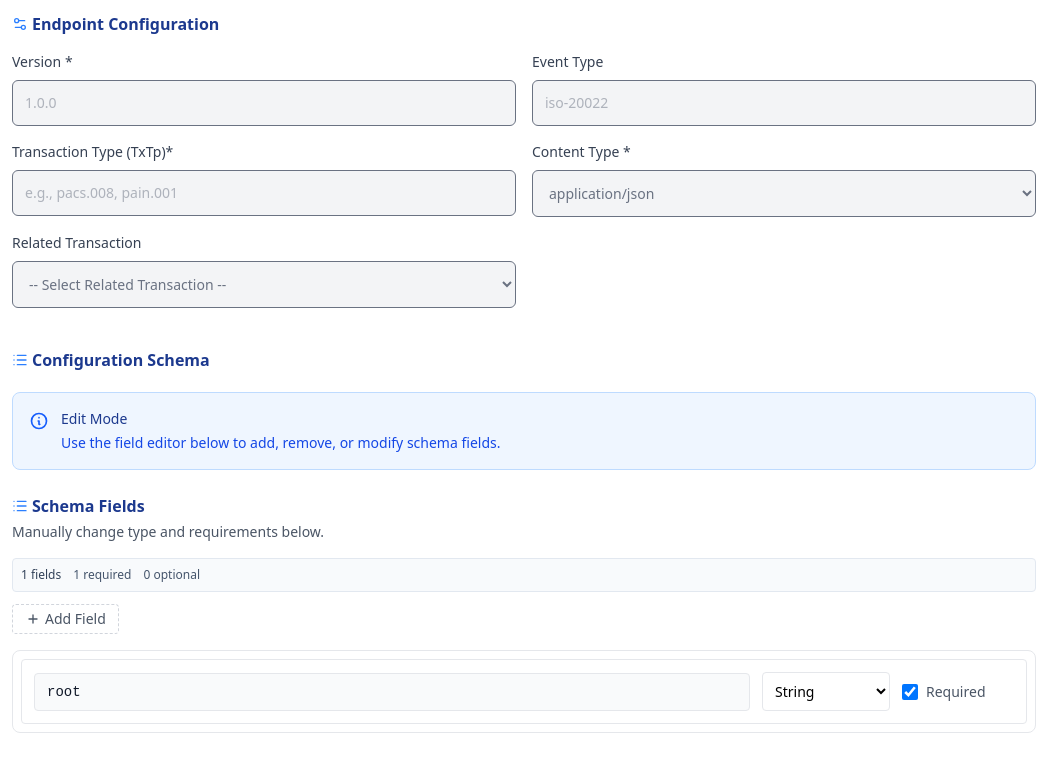
Test: shared/components/PayloadEditor.tsx › supports non-empty add form controls and cancel reset
This screenshot has width=1048, height=780.
Expected: the field showing "root" is shown, [34,672,750,710]
Click the button "Add Field".
click(65, 619)  # box [12,604,119,634]
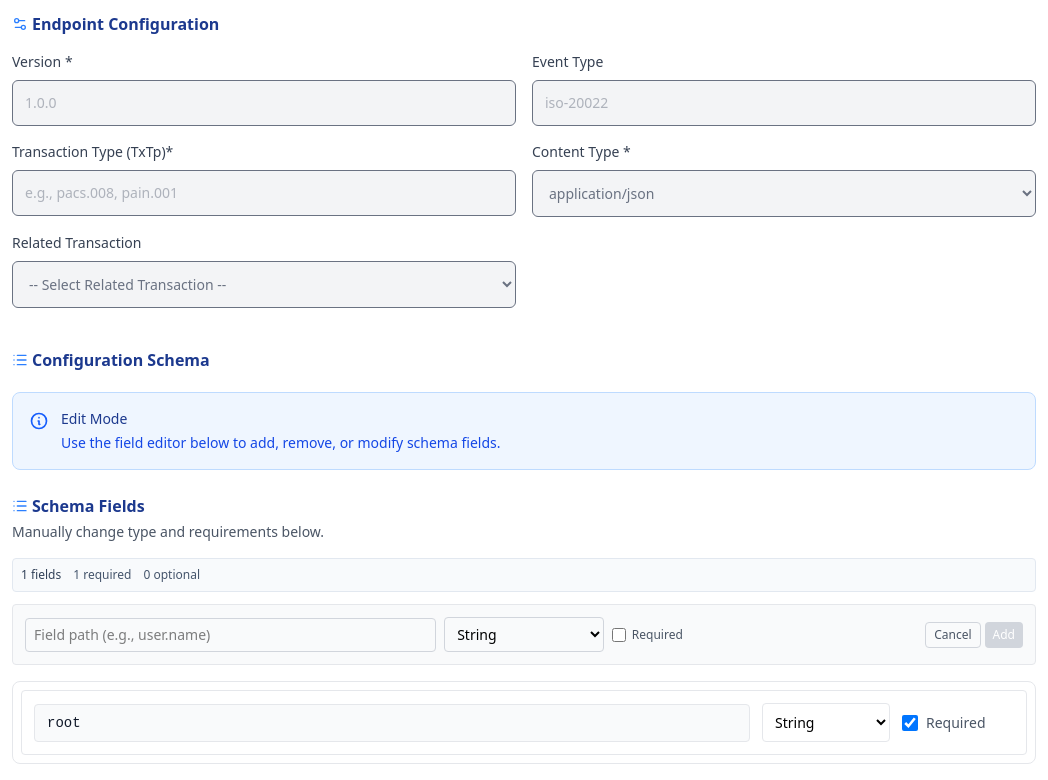
Type "root.child" into the field with placeholder "Field path (e.g., user.name)".
click(231, 634); type("root.child")  # box [25,618,436,652]
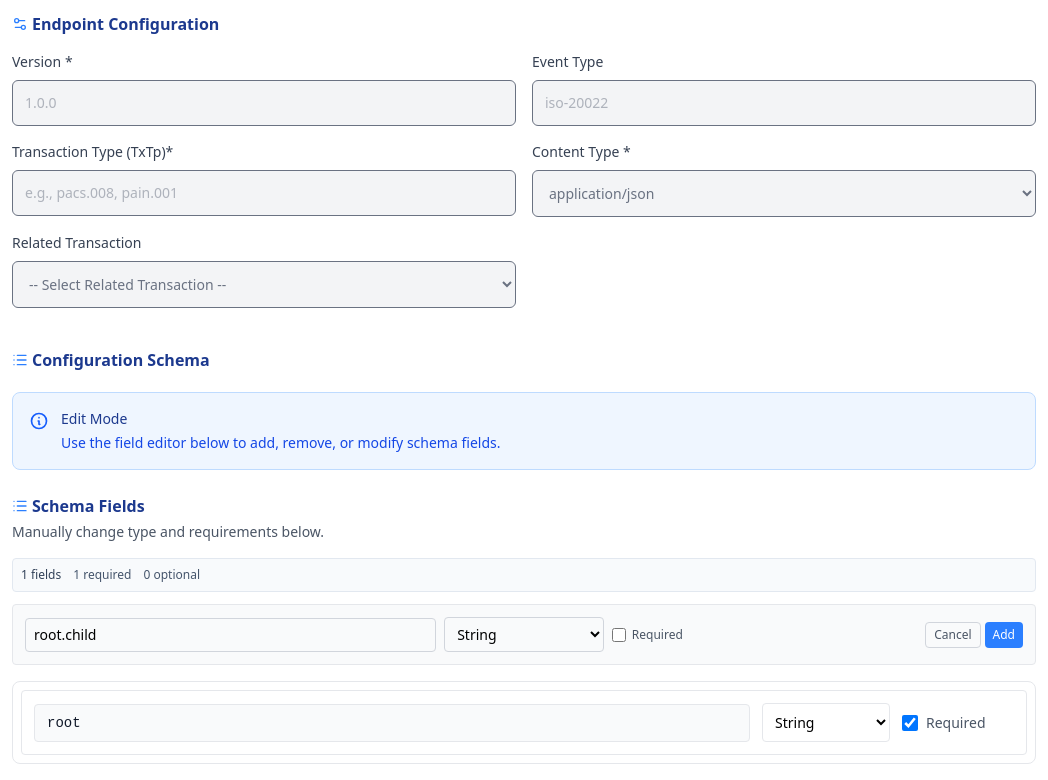
Select "Boolean" in the 4th dropdown at (826, 722), box [762,703,890,742]
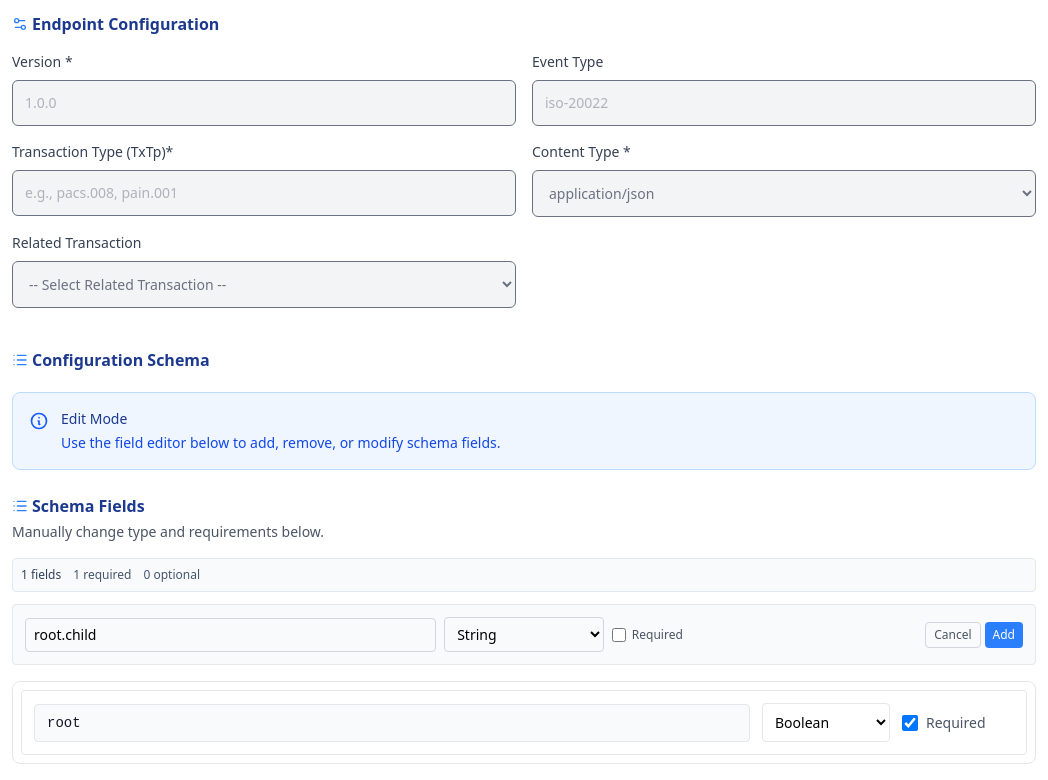
Click the checkbox labelled "Required".
click(910, 722)  # box [902,714,918,730]
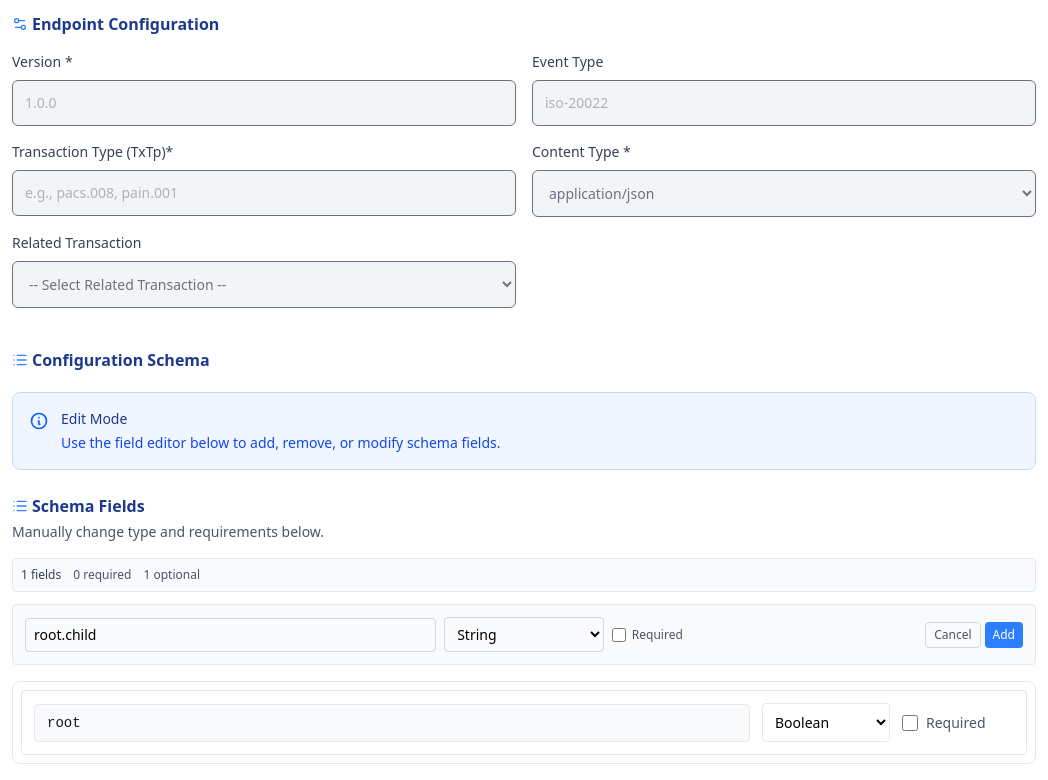
Click the button "Cancel".
click(953, 634)  # box [925,622,981,648]
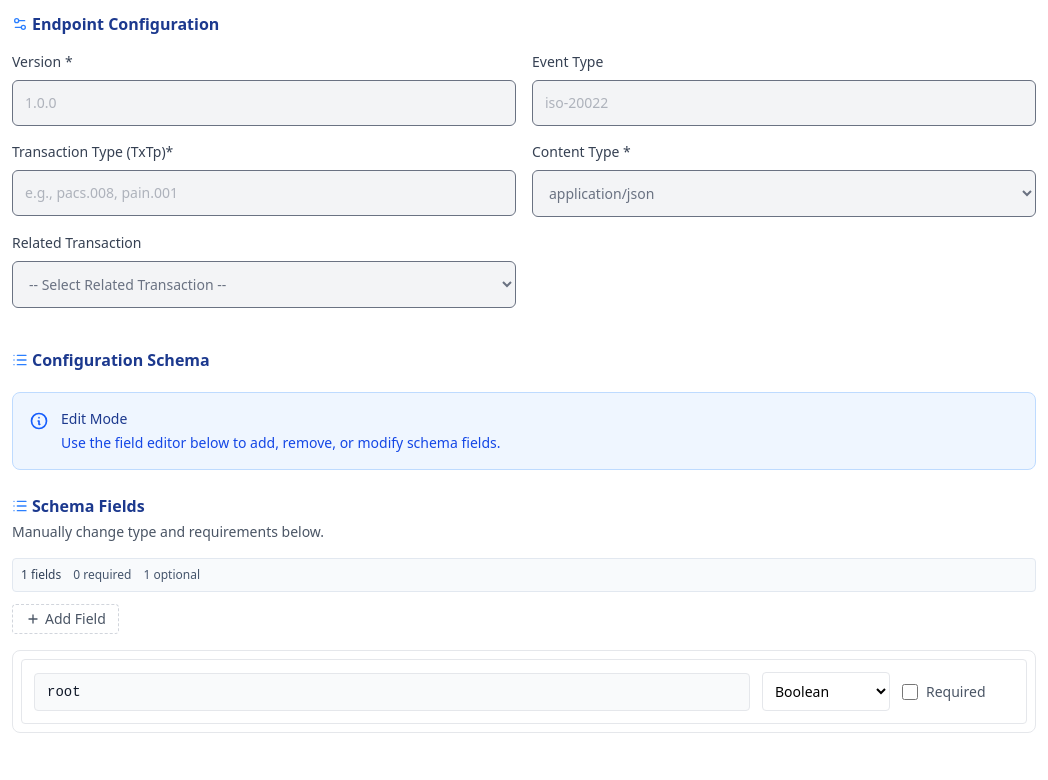
Expected: the field showing "root.child" is not shown
Result: the button "Add Field" is shown at [12,604,119,634]
